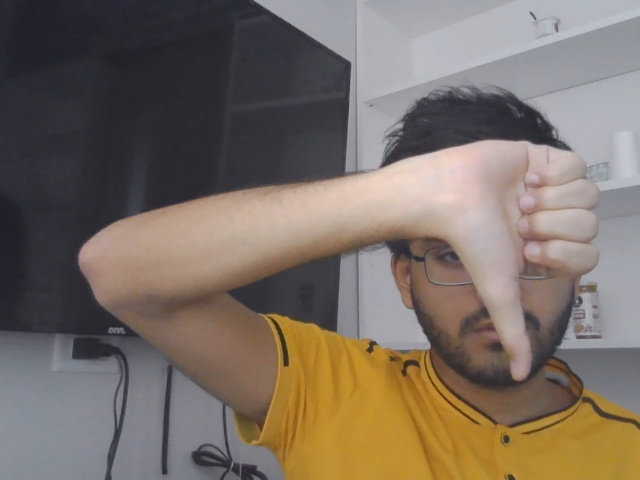ThumbsDown: (425, 139, 600, 383)
